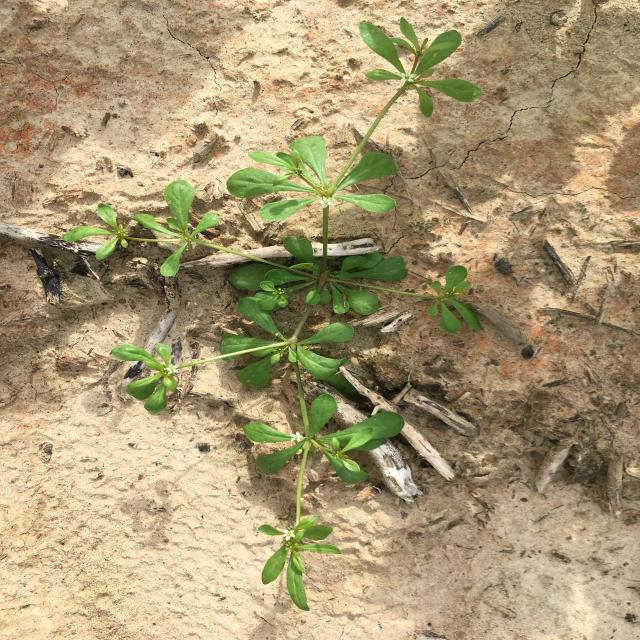Carpetweed: (62, 16, 484, 612)
